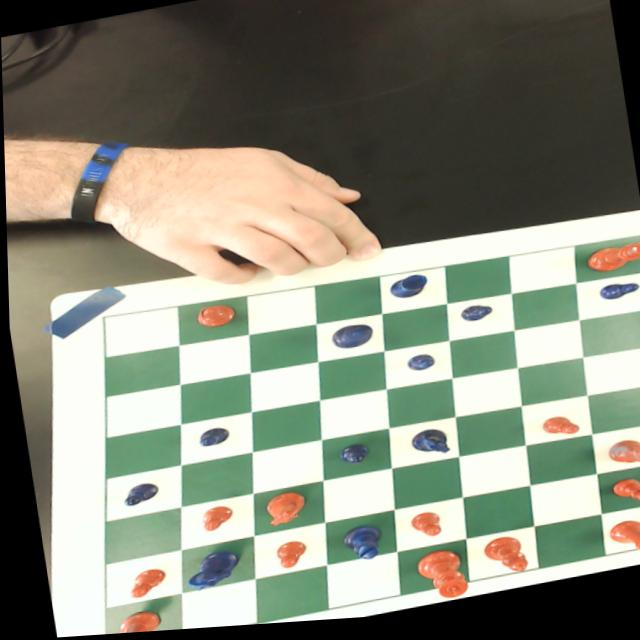B: (333, 528, 381, 569)
K: (326, 326, 373, 355)
N: (177, 549, 240, 595), (404, 430, 449, 465)
P: (116, 482, 156, 509), (594, 287, 639, 310), (333, 446, 368, 472), (193, 427, 227, 451), (456, 308, 491, 330), (402, 357, 433, 378)
R: (382, 278, 427, 307)
b: (477, 540, 526, 586), (188, 302, 236, 335)
k: (406, 552, 464, 610)
n: (255, 494, 305, 532), (601, 442, 640, 488)
p: (121, 567, 165, 600), (605, 483, 640, 518), (268, 541, 305, 574), (405, 513, 441, 546), (536, 420, 577, 447), (195, 506, 231, 535)
q: (581, 248, 640, 283)
r: (601, 522, 640, 570), (97, 608, 162, 636)
